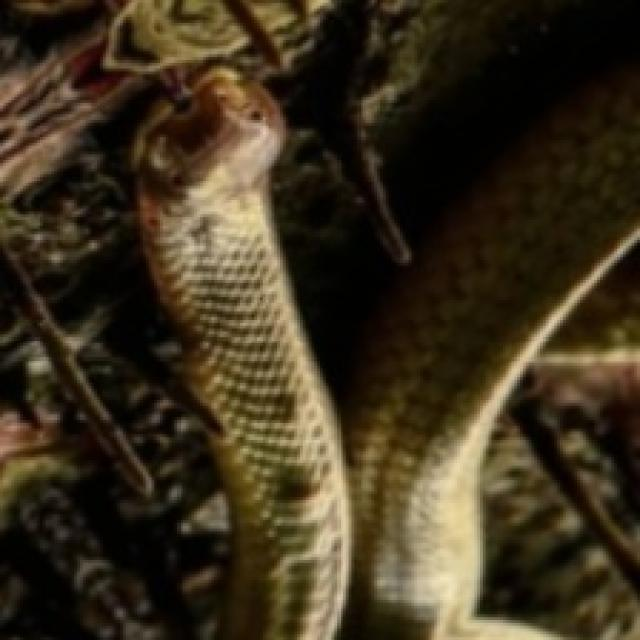king cobra: (346, 80, 637, 637), (131, 69, 349, 637)
